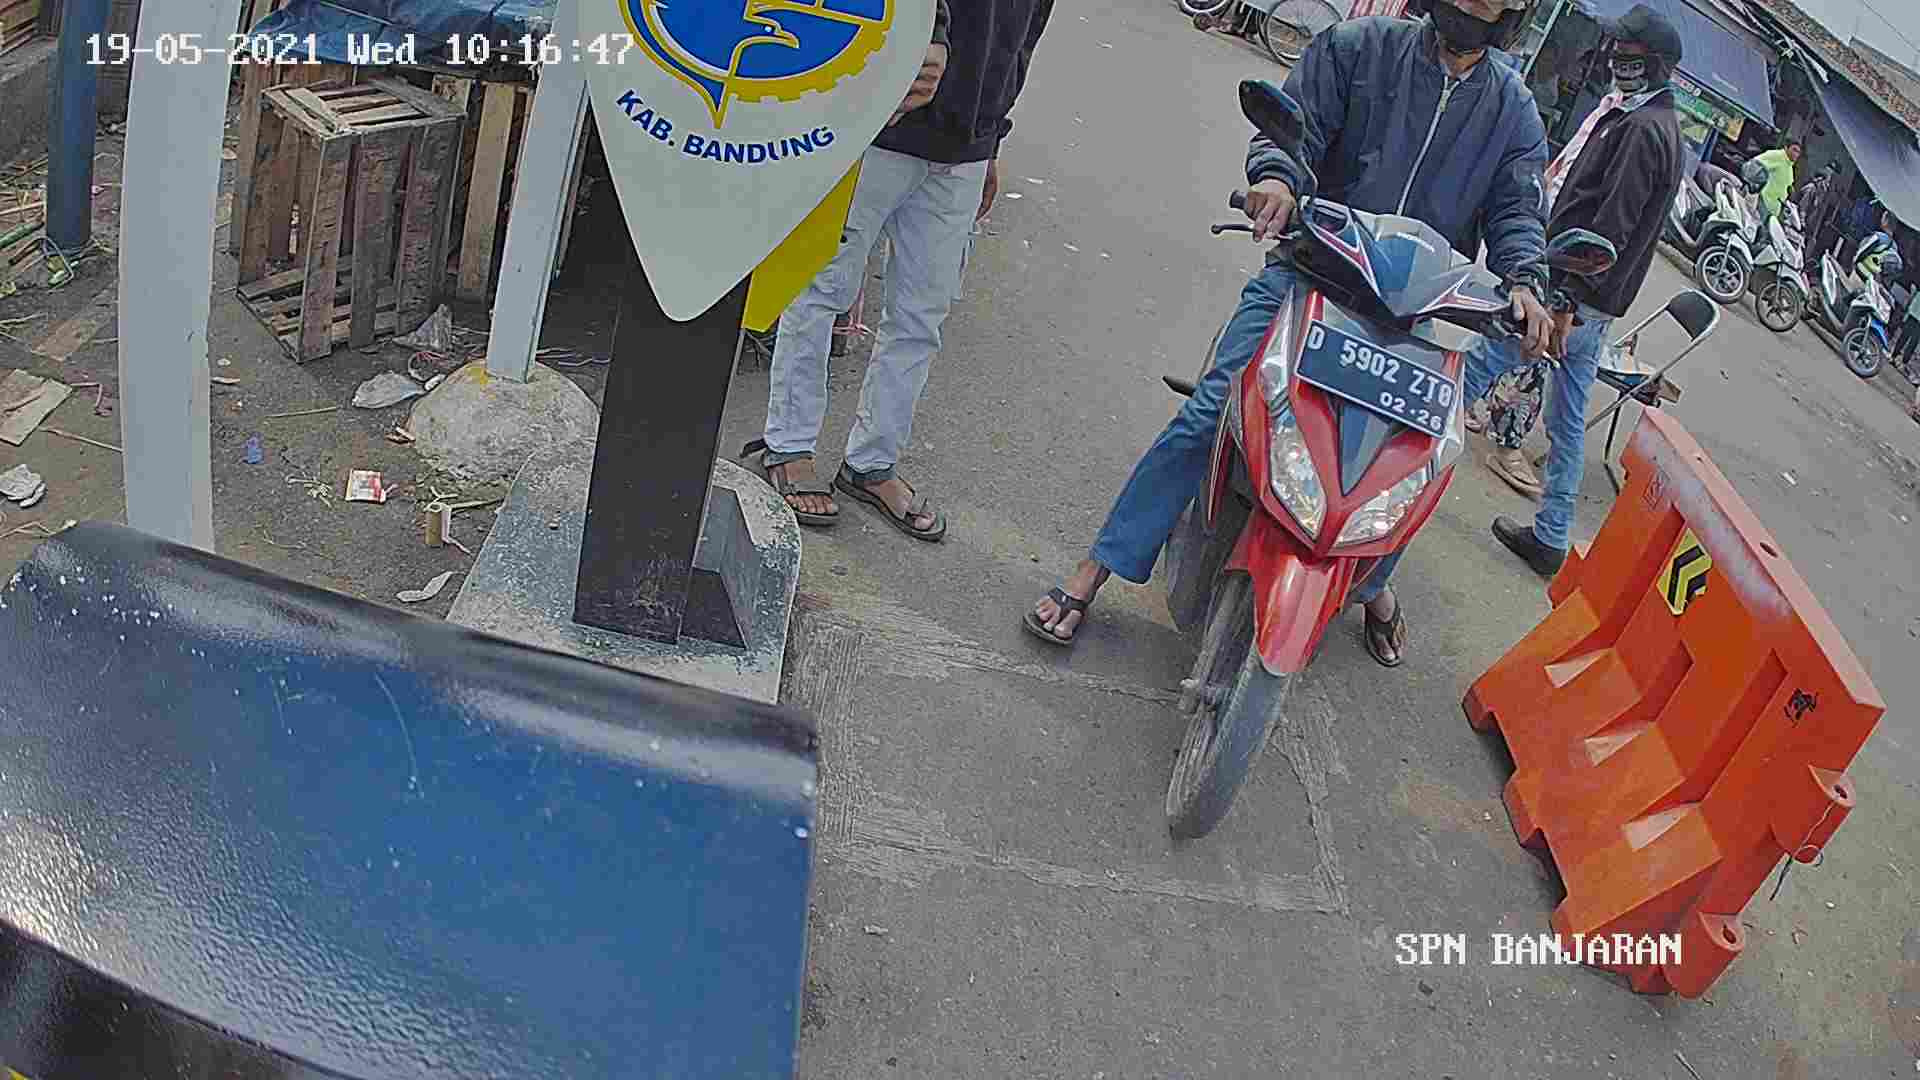motor: (1143, 185, 1530, 893)
